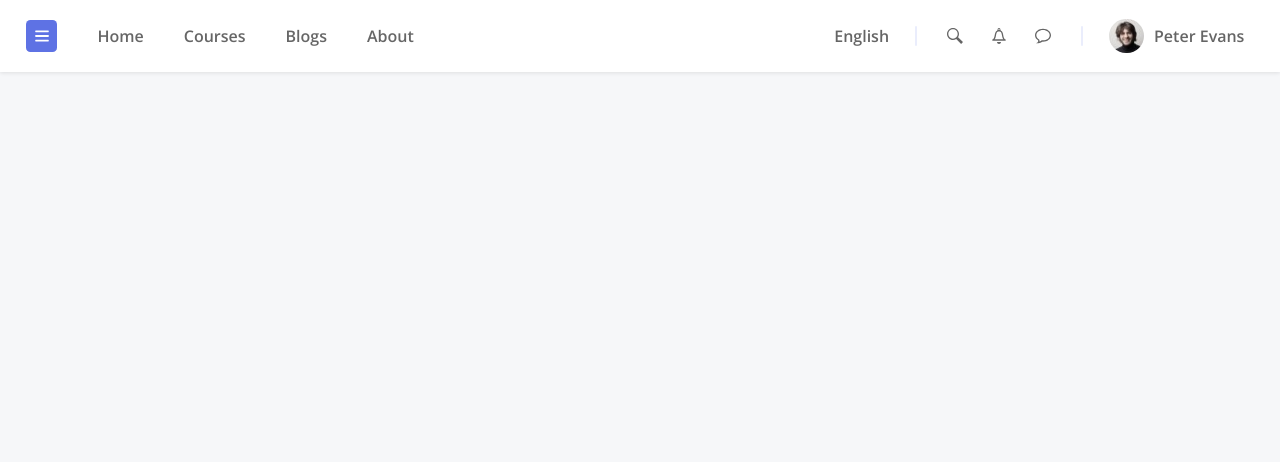
Test case: Dropdowns › Notifications dropdown opens and closes on button click
# Click notifications button and expect notifications dropdown to appear
Click the element with test id "notifications-button": (999, 36) [991,28,1007,44]
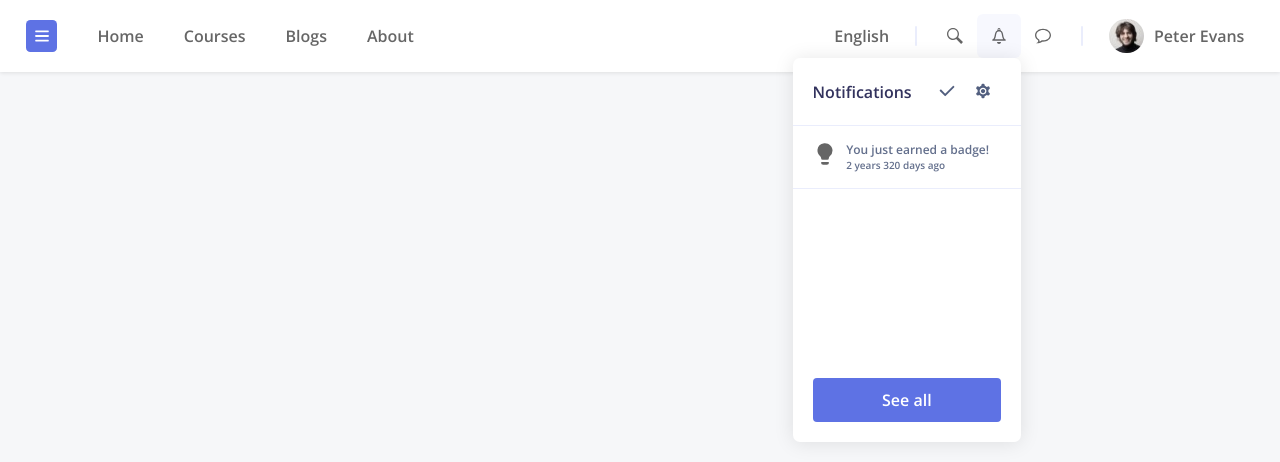
Check: the element with test id "notifications-dropdown" is shown, box [793,58,1021,442]
# Click notifications button and expect notifications dropdown to disappear
Click the element with test id "notifications-button": (999, 36) [977,14,1021,58]
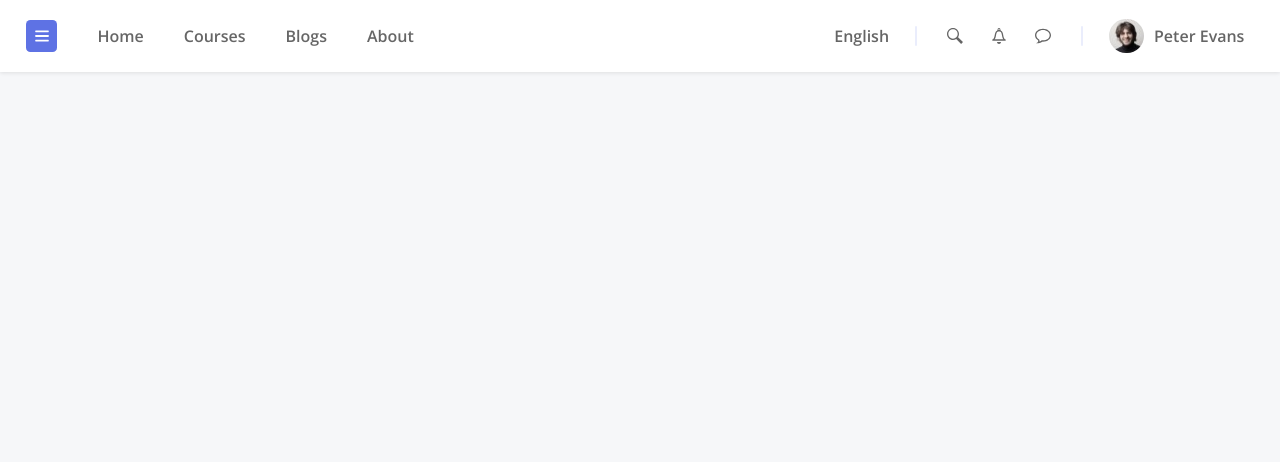
Check: the element with test id "notifications-dropdown" is gone
